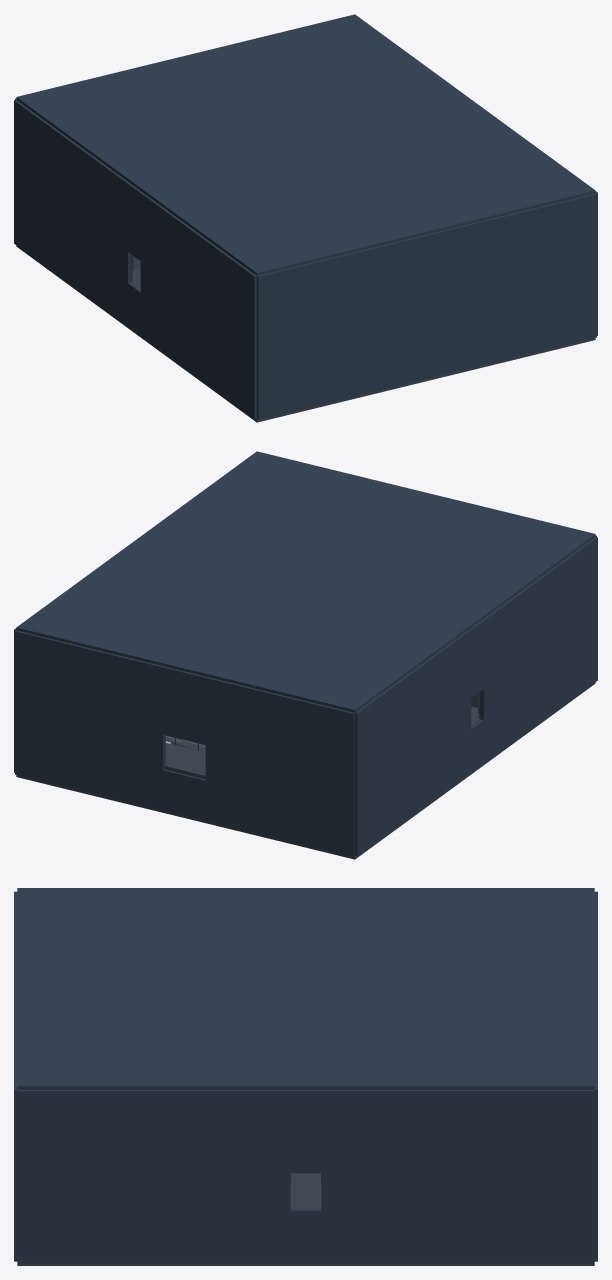
Rendered from L_F01_OceanLife_FPS.glb.
The picture shows the model from 3 angles, top to bottom: view 1: azimuth 30°, elevation 25°; view 2: azimuth 150°, elevation 25°; view 3: azimuth 270°, elevation 25°; orthographic projection. The views are drawn at different scales.
Visible parts, largest first — view 1: ARCH_L_F01_OceanLife_FPS; view 2: ARCH_L_F01_OceanLife_FPS; view 3: ARCH_L_F01_OceanLife_FPS.
Part boxes in pixels (x1,y1,x2,y2): ARCH_L_F01_OceanLife_FPS: (14,14,597,422); ARCH_L_F01_OceanLife_FPS: (14,451,597,859); ARCH_L_F01_OceanLife_FPS: (14,888,597,1265).
Size of the model in its own units: 40.17 by 16.72 by 49.32.
